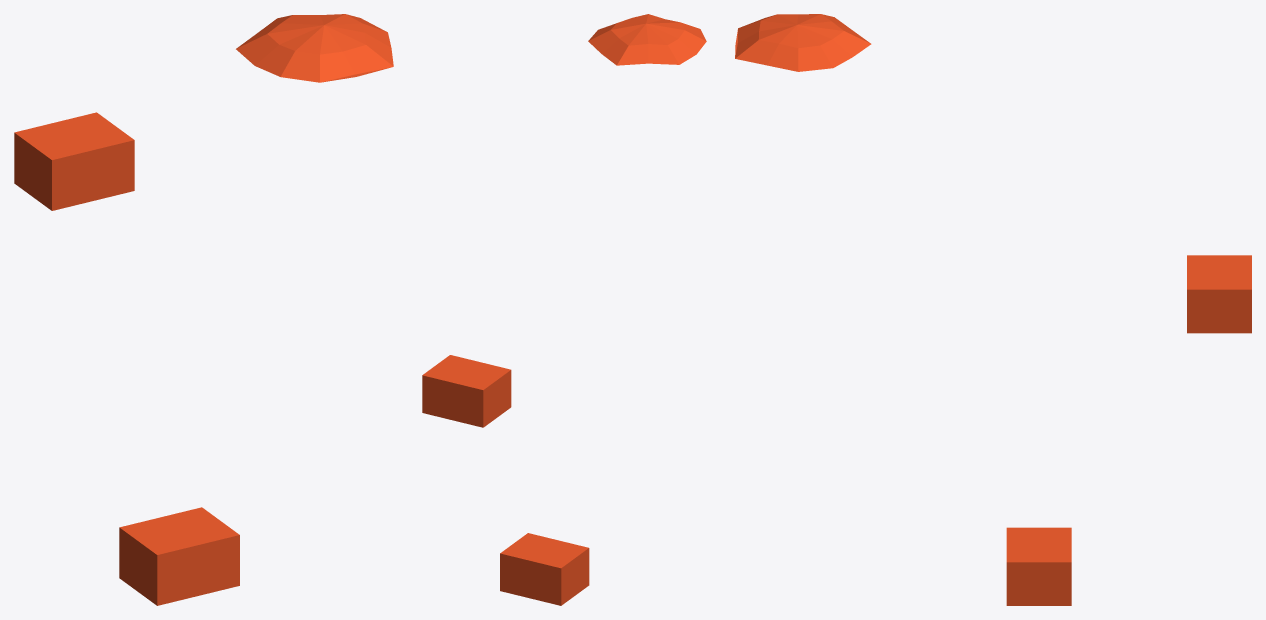
Rendered from ruins-treasure-colliders.glb.
3 views of the same model, side by side, from view 1: azimuth 30°, elevation 25°; view 2: azimuth 150°, elevation 25°; view 3: azimuth 270°, elevation 25° (orthographic). The views are drawn at different scales.
Parts seen in each view (by area): view 1: COLLIDER_Treasure_3_Box, COLLIDER_Treasure_2_Box, COLLIDER_Treasure_1_Mound; view 2: COLLIDER_Treasure_3_Box, COLLIDER_Treasure_2_Box, COLLIDER_Treasure_1_Mound; view 3: COLLIDER_Treasure_1_Mound, COLLIDER_Treasure_3_Box, COLLIDER_Treasure_2_Box.
Boxes of the visible parts, x1=… form: COLLIDER_Treasure_3_Box: x1=119, y1=507, x2=239, y2=605; COLLIDER_Treasure_2_Box: x1=14, y1=112, x2=134, y2=210; COLLIDER_Treasure_1_Mound: x1=236, y1=14, x2=393, y2=82; COLLIDER_Treasure_3_Box: x1=500, y1=533, x2=589, y2=605; COLLIDER_Treasure_2_Box: x1=422, y1=355, x2=511, y2=427; COLLIDER_Treasure_1_Mound: x1=588, y1=14, x2=706, y2=65; COLLIDER_Treasure_1_Mound: x1=735, y1=14, x2=871, y2=71; COLLIDER_Treasure_3_Box: x1=1006, y1=527, x2=1071, y2=605; COLLIDER_Treasure_2_Box: x1=1187, y1=255, x2=1251, y2=333.
Size of the model in its own units: 2.19 by 10.37 by 8.59.
